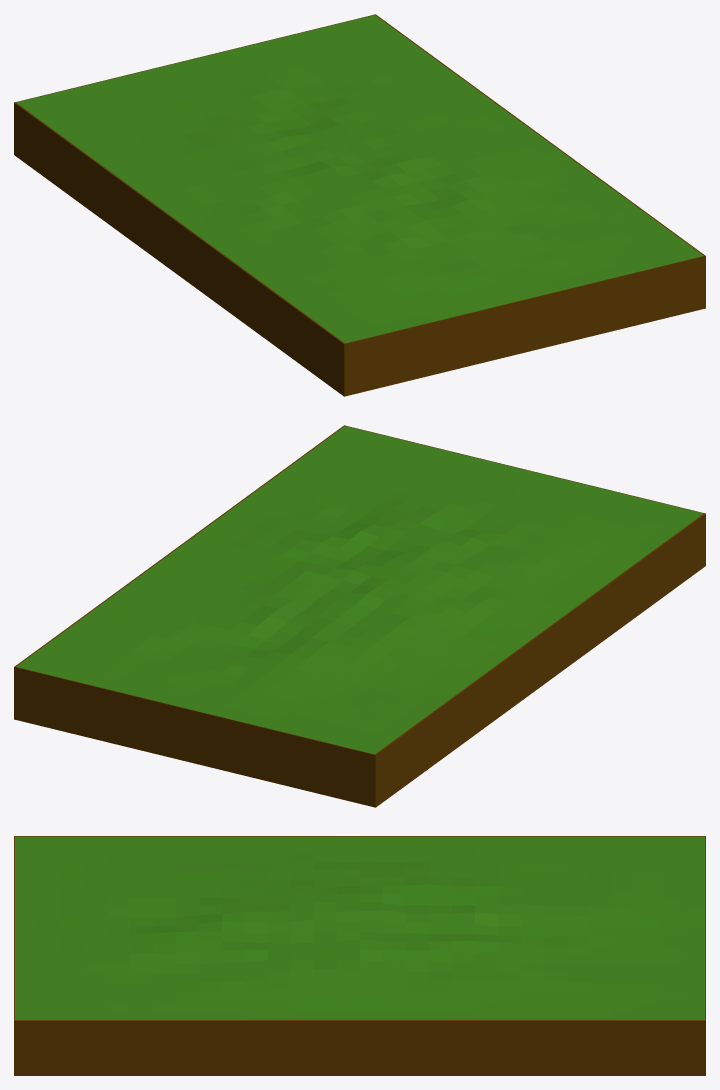
The model's file is LANDMASS_003.fbx.
3 views of the same model, one above another, from view 1: azimuth 30°, elevation 25°; view 2: azimuth 150°, elevation 25°; view 3: azimuth 270°, elevation 25° (orthographic). The views are drawn at different scales.
Parts seen in each view (by area): view 1: Landscape, Cube_1; view 2: Landscape, Cube_1; view 3: Landscape, Cube_1.
Part boxes in pixels (x1,y1,x2,y2): Landscape: [16, 15, 703, 343]; Cube_1: [14, 14, 705, 396]; Landscape: [16, 426, 703, 754]; Cube_1: [14, 425, 705, 807]; Landscape: [15, 836, 704, 1019]; Cube_1: [14, 836, 705, 1075].
Size of the model in its own units: 1248 by 202 by 1973.
